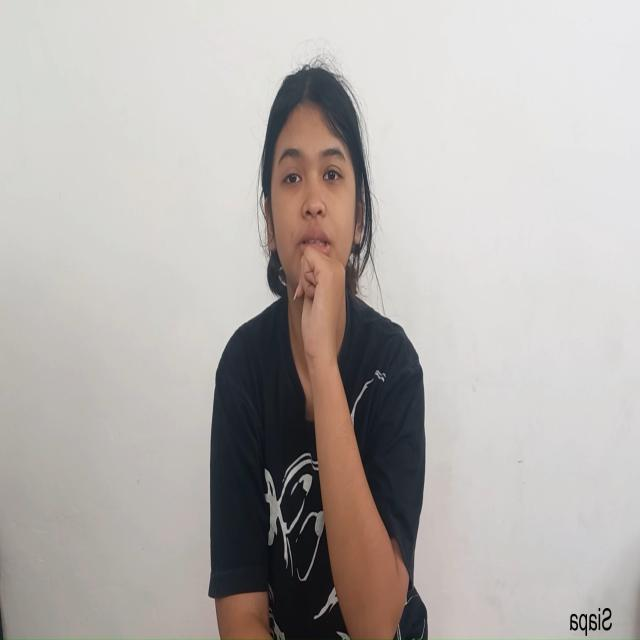Siapa -BISINDO-: (244, 62, 380, 389)
